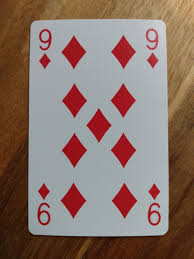nine of diamonds: (28, 19, 169, 238)
